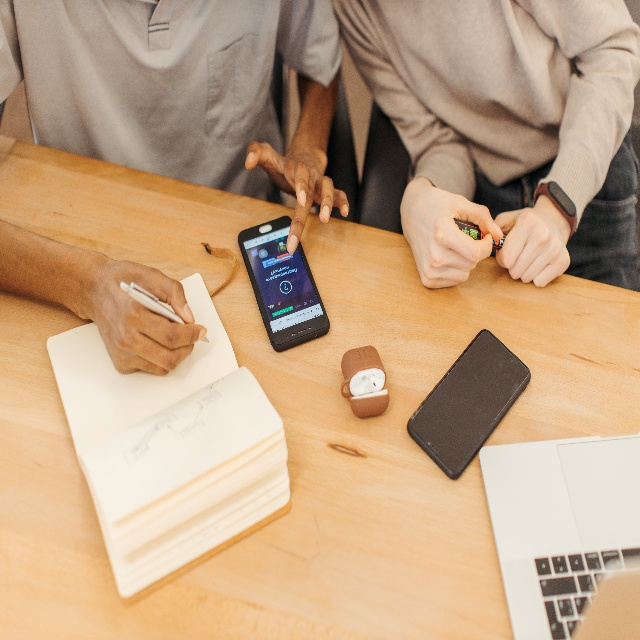Sin_guantes: (94, 253, 207, 375), (244, 140, 349, 256), (401, 183, 504, 290), (494, 207, 571, 289)
